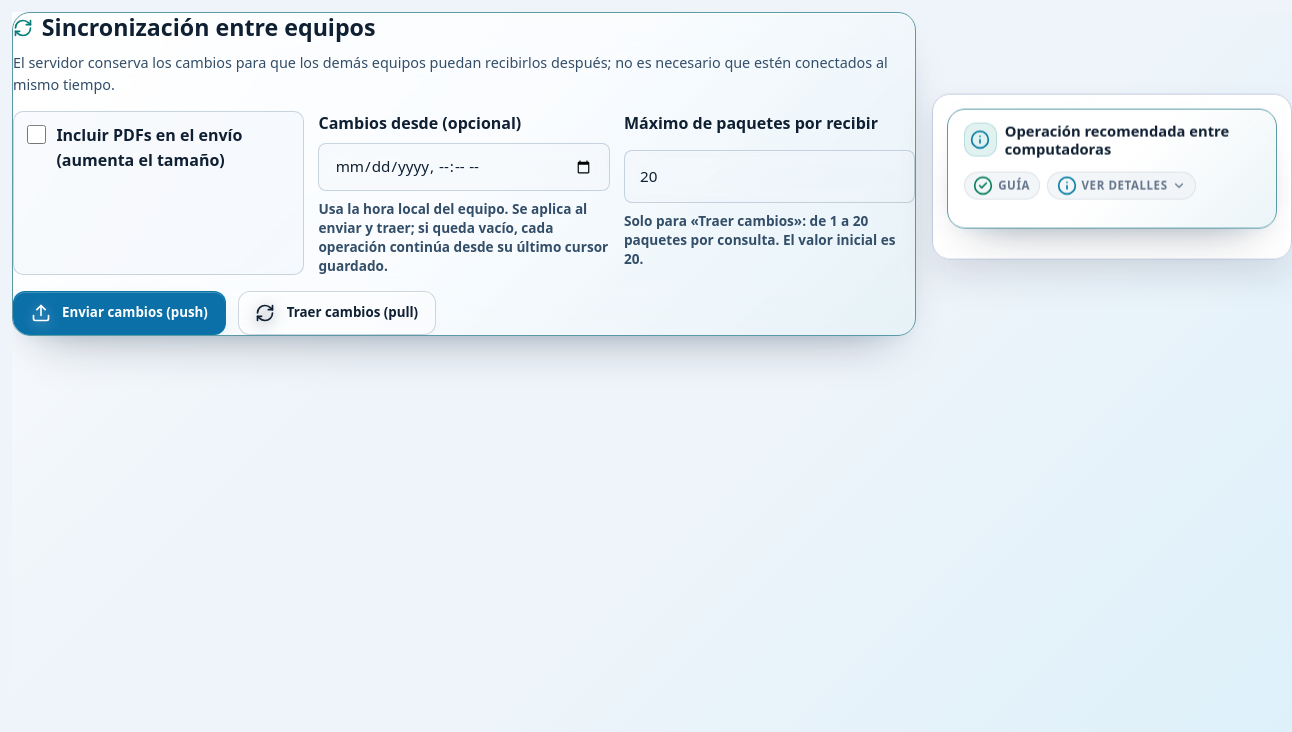
SeccionSincronizacionEquipos › reemplaza el reporte previo cuando falla la operación siguiente
Click the button "Enviar cambios (push)" at (119, 313), box left=13, top=291, right=226, bottom=335
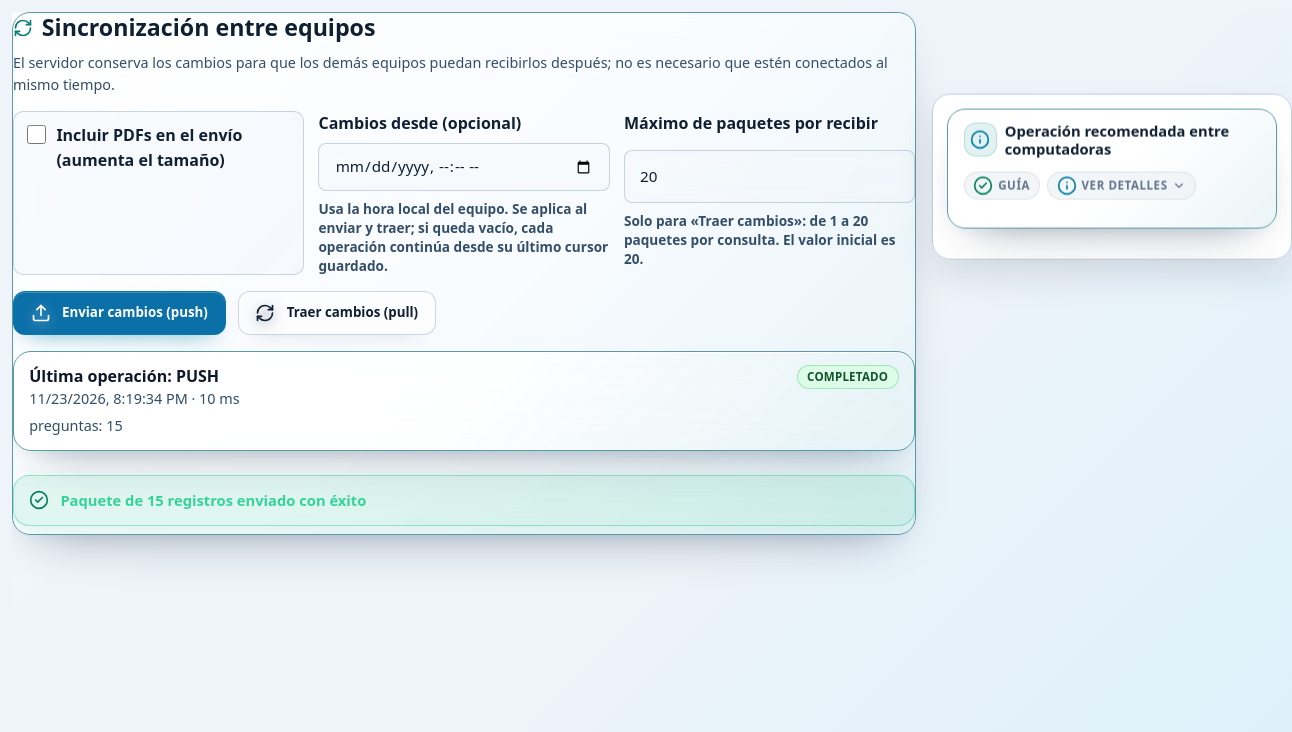
Check: the text "Paquete de 15 registros enviado con éxito" is shown, box left=60, top=490, right=366, bottom=510
Click the button "Traer cambios (pull)" at (337, 313), box left=238, top=291, right=436, bottom=335
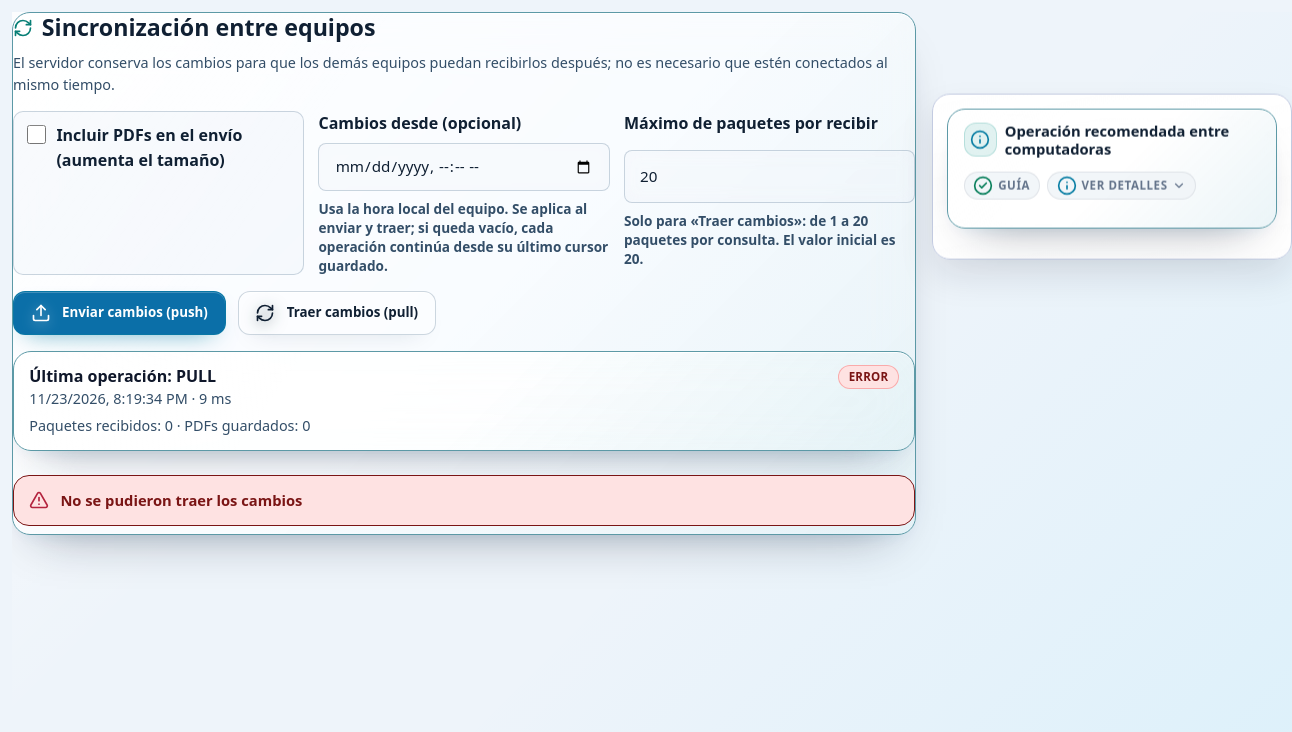
Check: the text "No se pudieron traer los cambios" is shown, box left=60, top=490, right=302, bottom=510
Check: the text "Error" is shown, box left=838, top=365, right=899, bottom=389
Check: the text "preguntas: 15" is gone
